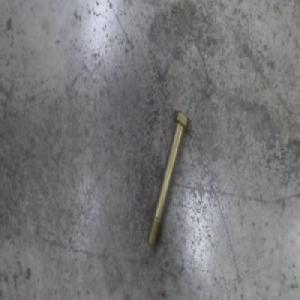Bolt: (146, 108, 190, 249)
